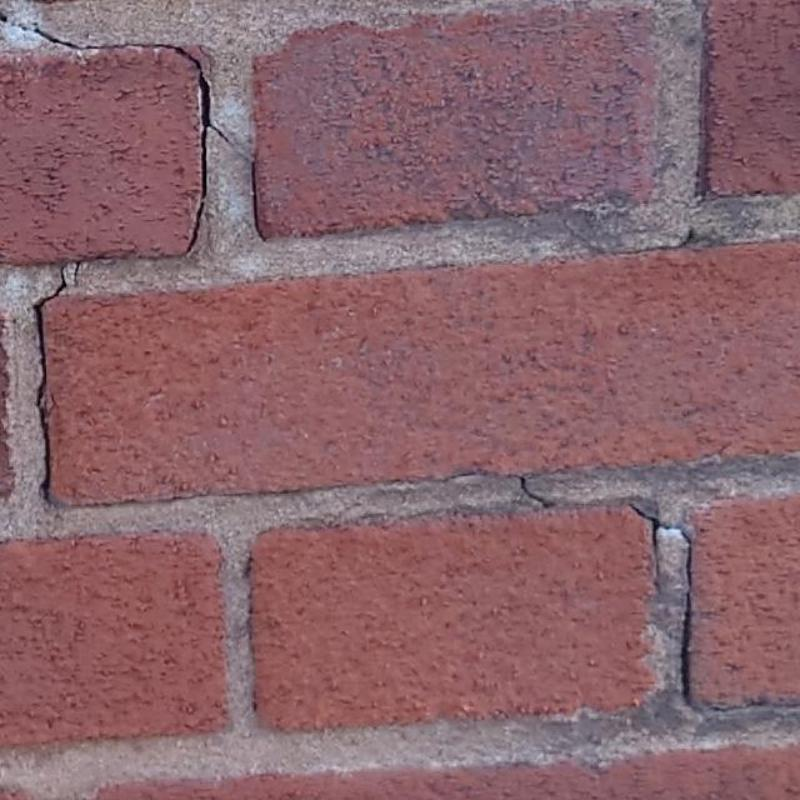crack: (154, 45, 234, 255), (36, 266, 66, 499), (680, 528, 694, 707), (630, 498, 662, 574), (31, 25, 130, 48), (249, 160, 268, 242), (520, 477, 552, 508), (74, 261, 81, 288)
